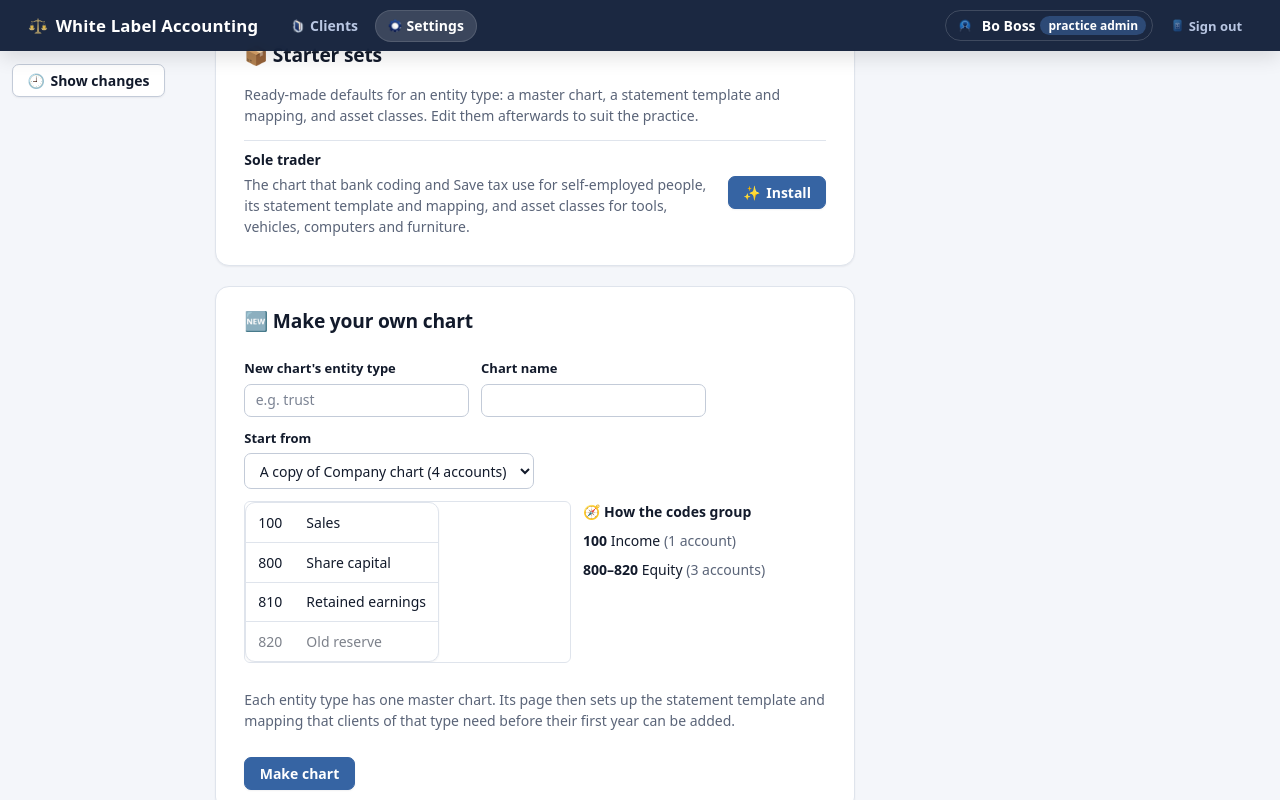
Scenario: practice settings › makes a master chart as a copy of another, then opens it
(page scrolled)
Type " Look Through Company " into the field labelled "New chart's entity type".
click(357, 400); type(" Look Through Company ")  # box 244,384 -> 469,417
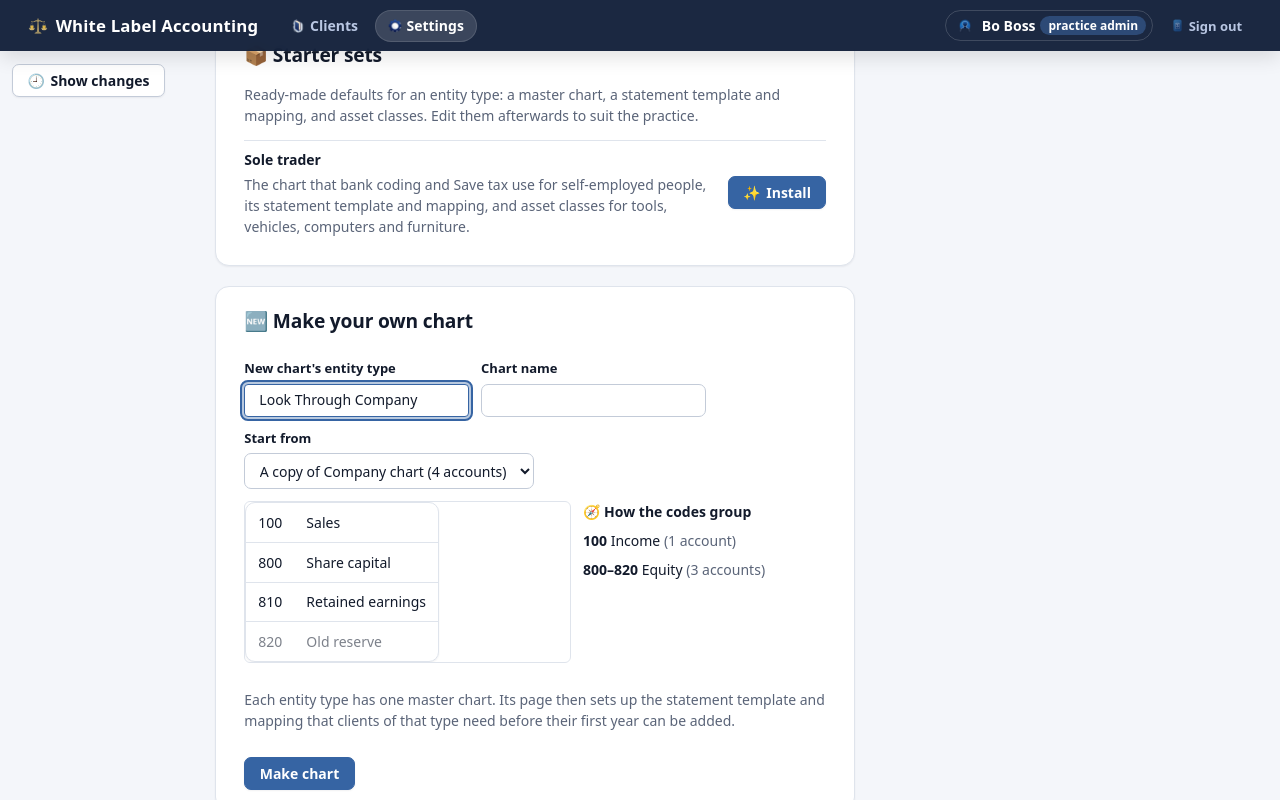
Type "LTC" into the field labelled "Chart name".
click(594, 400); type("LTC")  # box 481,384 -> 706,417
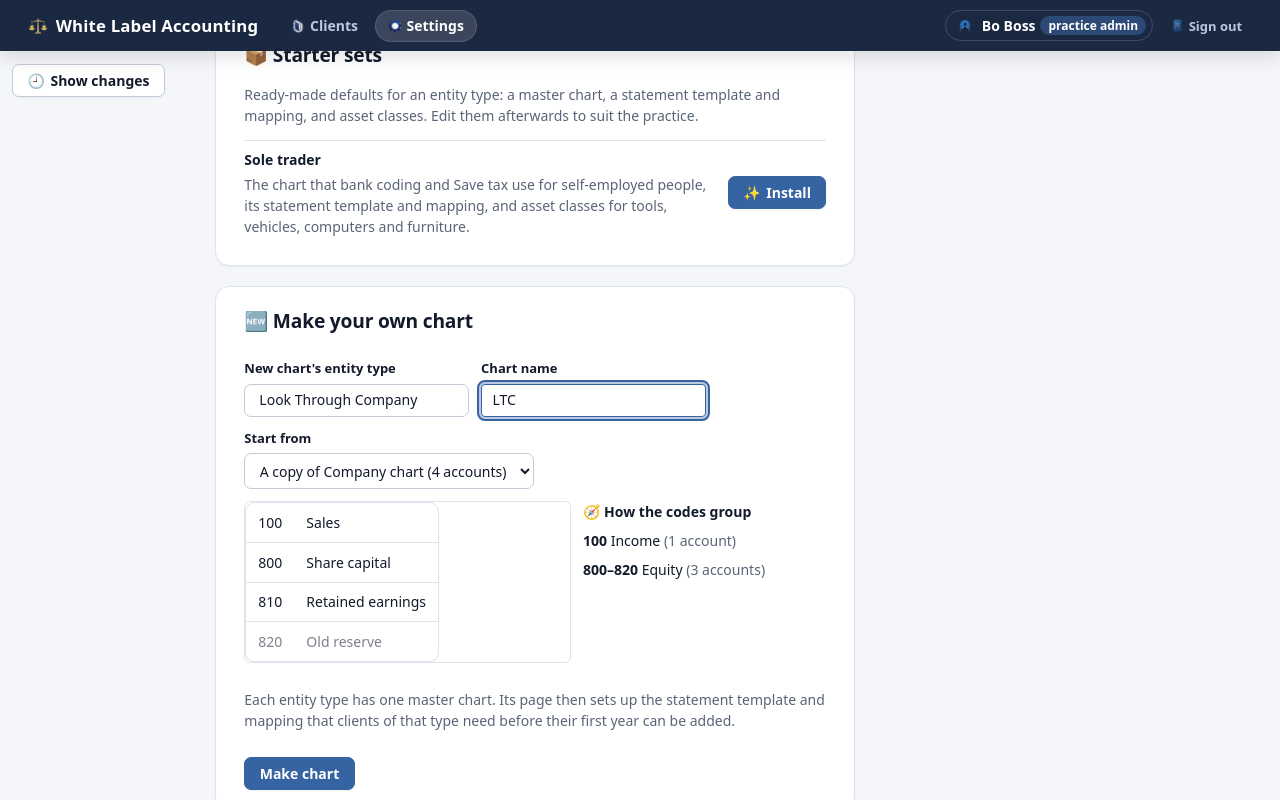
Select "A copy of Company chart (4 accounts)" in the dropdown labelled "Start from" at point(389, 471), box 244,453 -> 534,489
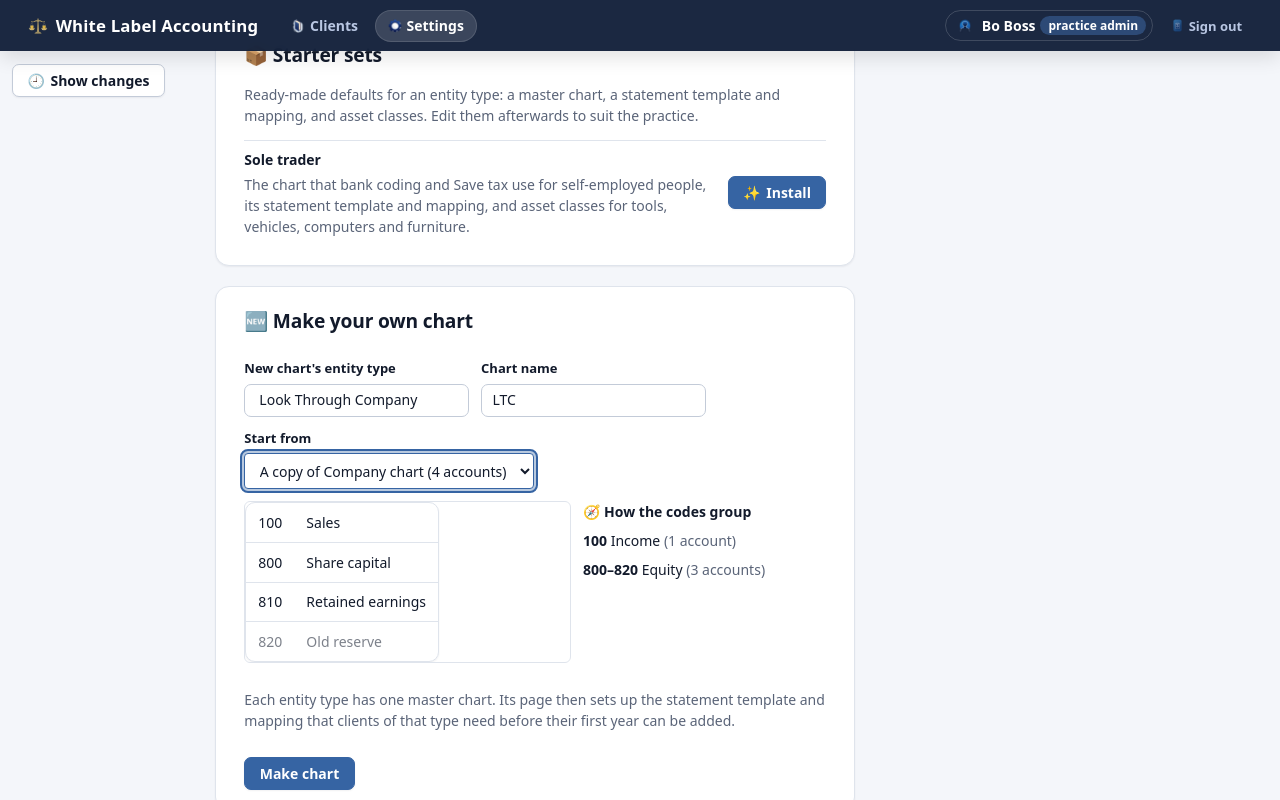
Click the button "Make chart".
click(299, 773)  # box 244,757 -> 355,790
(page scrolled)
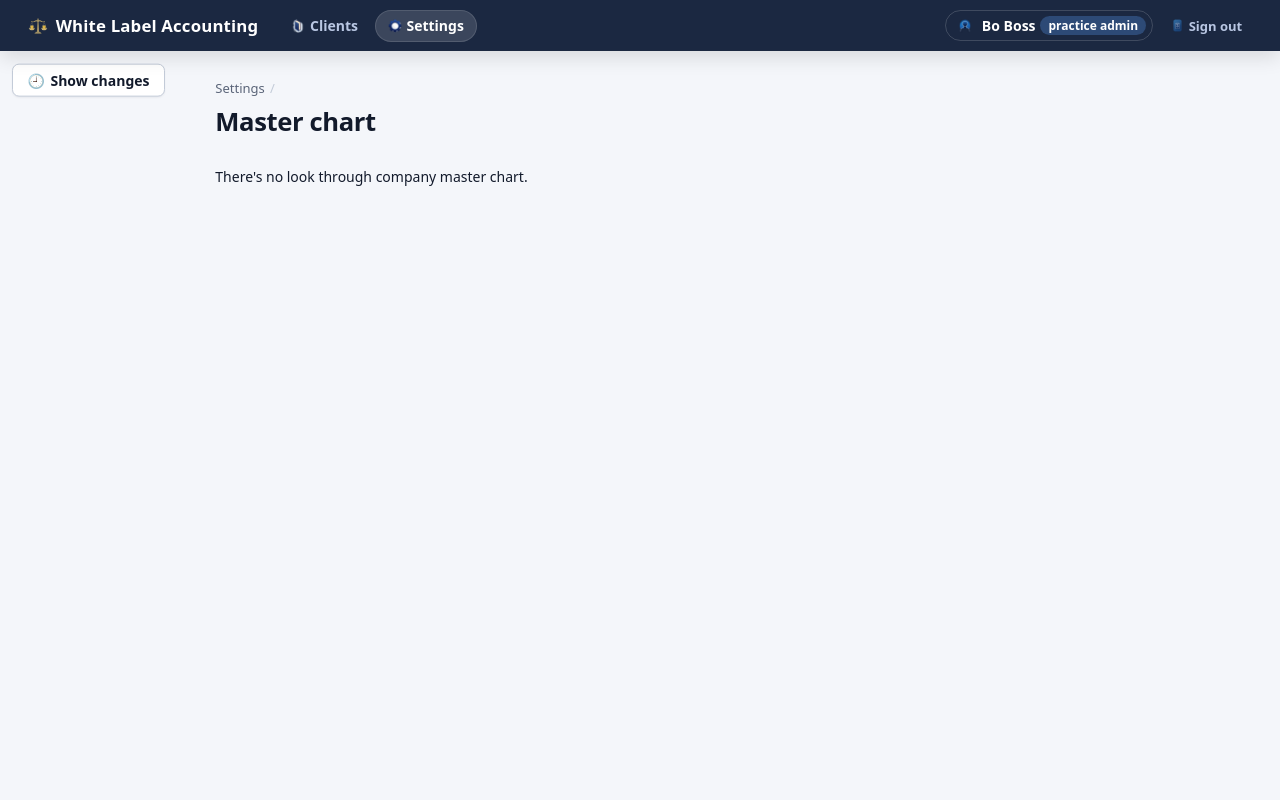
Expected: the text "There's no look through company master chart." is shown, 215,167 -> 528,186
